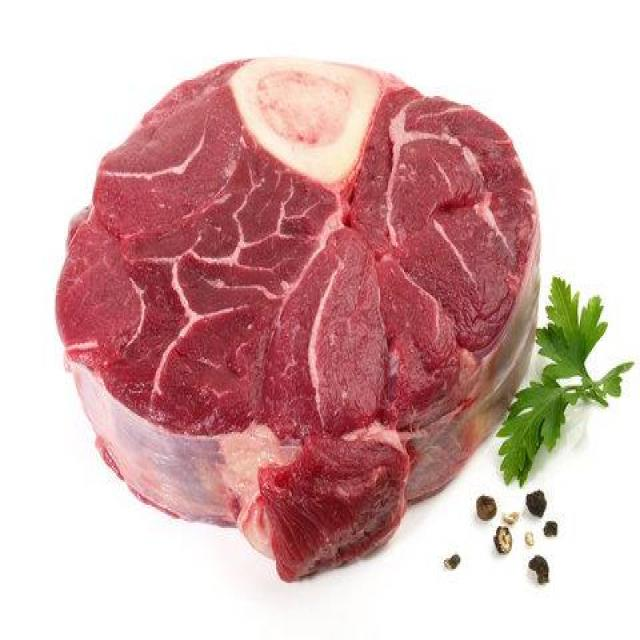Beef: (88, 28, 510, 500)
